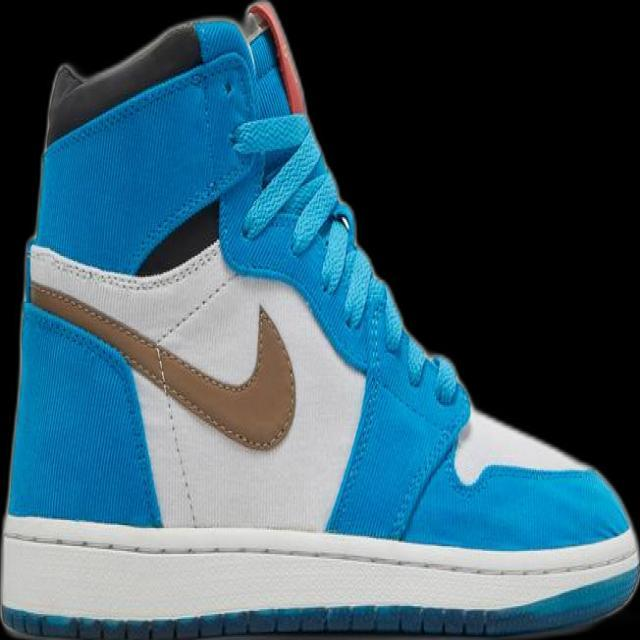J1_InsoleChar: (0, 0, 639, 639)
J1_StitchPattern: (1, 521, 638, 638), (26, 273, 298, 452), (1, 527, 638, 580), (0, 603, 496, 639)
